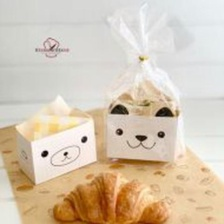snack: (99, 0, 200, 167)
